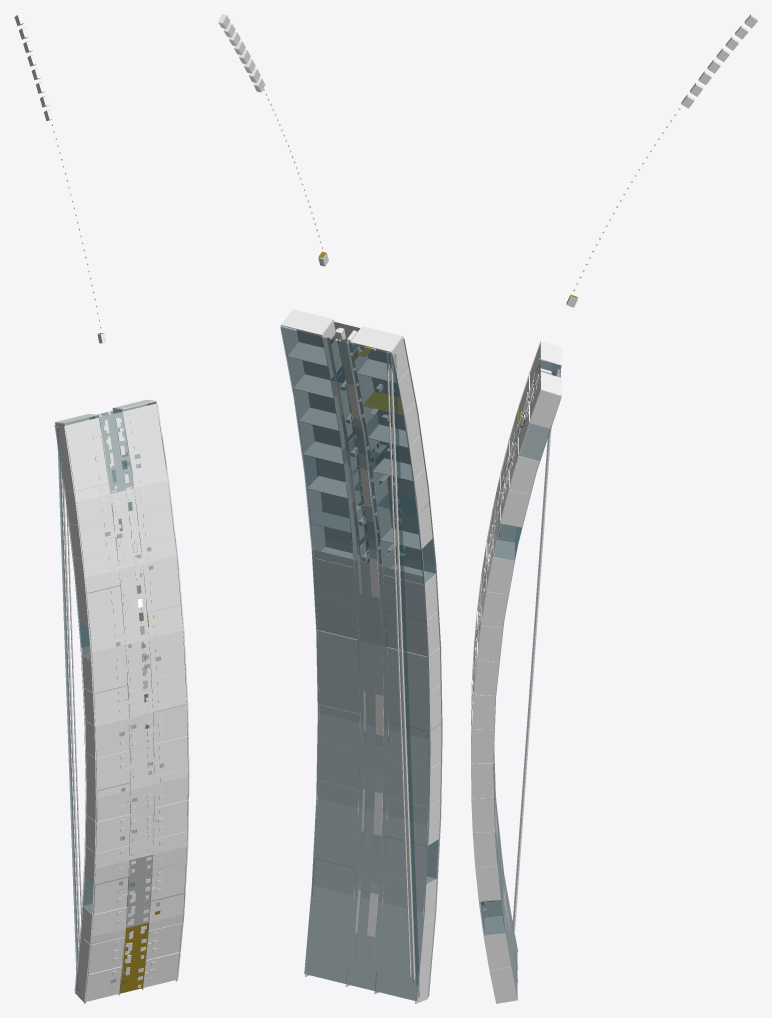
Rendered from xuanshu_interior_C39.glb.
3 renders of one model, left to right at view 1: azimuth 30°, elevation 25°; view 2: azimuth 150°, elevation 25°; view 3: azimuth 270°, elevation 25°, orthographic. The views are drawn at different scales.
Visible parts, largest first — view 1: UNIT-HAB-006_S33450; view 2: UNIT-HAB-006_S33450; view 3: UNIT-HAB-006_S33450.
Part boxes in pixels (<box>): UNIT-HAB-006_S33450: <box>14,14,189,1003</box>; UNIT-HAB-006_S33450: <box>218,14,442,1003</box>; UNIT-HAB-006_S33450: <box>471,14,757,1003</box>.
Size of the model in its own units: 17.31 by 157 by 42.26.
